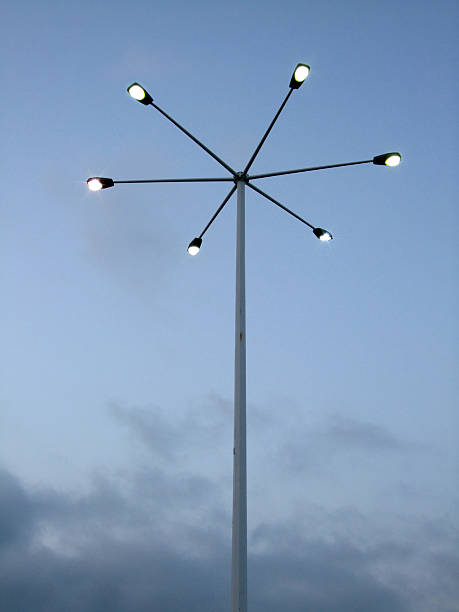light_pole: (228, 218, 251, 612)
